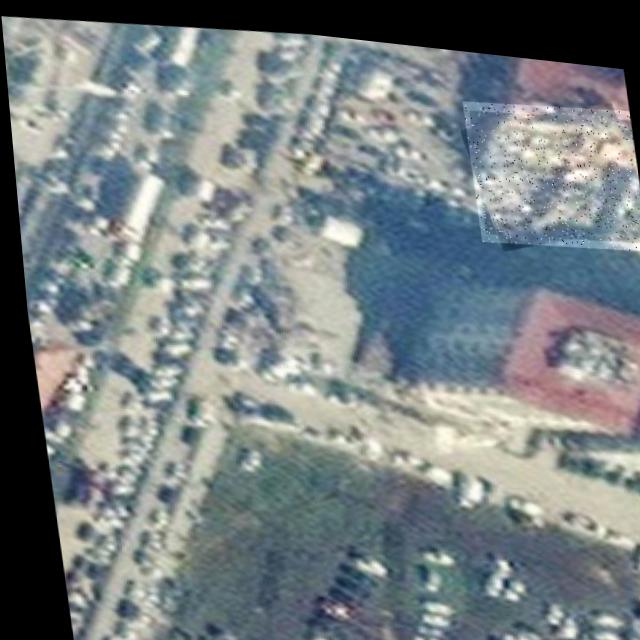Rubble: (460, 81, 640, 246)
